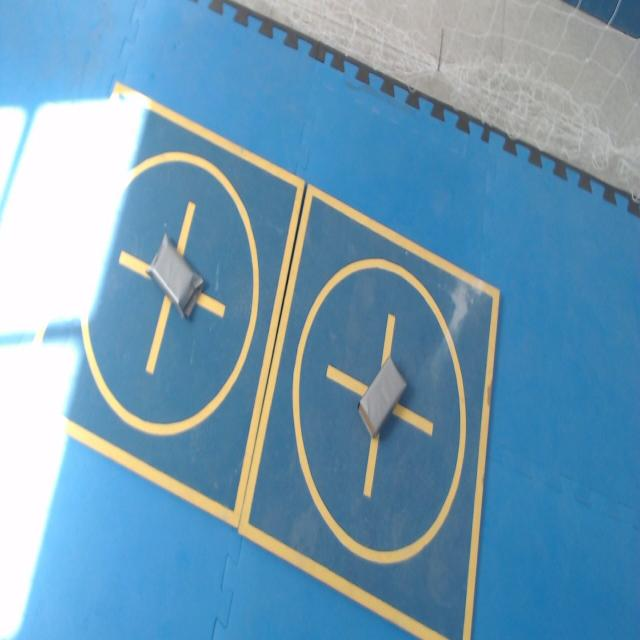lipo: (147, 234, 203, 316), (359, 356, 406, 437)
